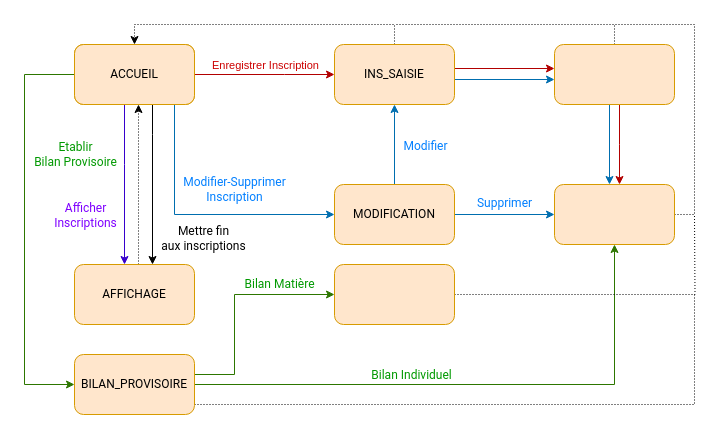
Image size: 714x432. Some labels were removed from this diagram. The shapes that lost their labels are listed below. From the top down, each one's centre as x and y in pixels, then its label:
At (x=614, y=74): "INS_EPREUVES".
At (x=614, y=214): "RECAPITULATIF".
At (x=394, y=294): "BILAN_INS".
